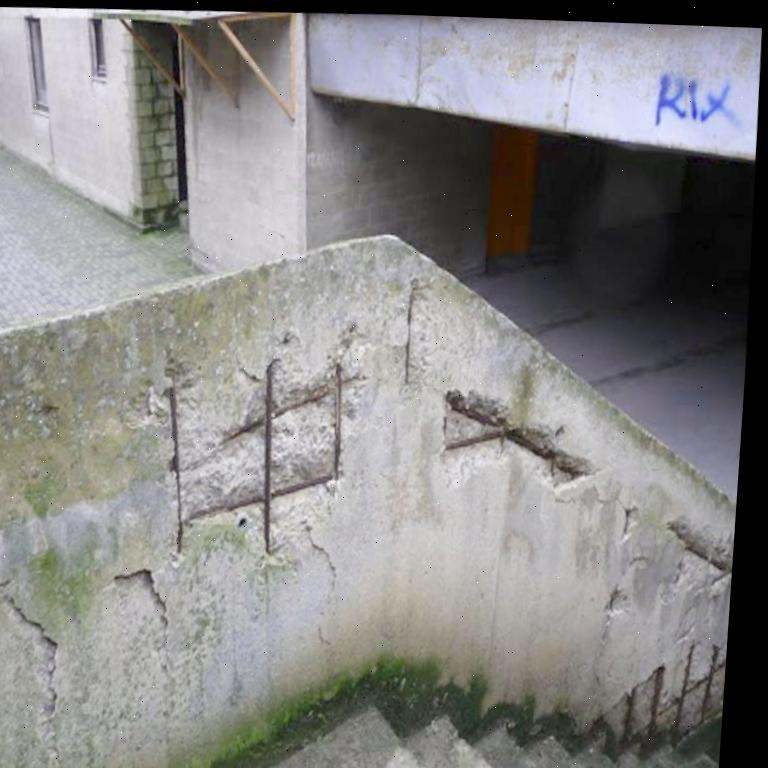exposed_rebar: (196, 362, 341, 553), (446, 391, 589, 475), (659, 644, 719, 740), (166, 386, 184, 553), (647, 664, 665, 736), (686, 546, 732, 573), (404, 288, 414, 382), (621, 687, 637, 743)
spalling: (145, 359, 344, 557), (443, 390, 594, 485), (604, 644, 727, 739), (668, 516, 734, 589)
